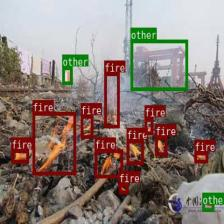fire: (32, 112, 75, 175), (104, 72, 119, 127), (95, 149, 122, 178), (126, 139, 144, 164), (80, 114, 93, 138), (11, 149, 29, 163), (155, 136, 166, 154), (144, 117, 153, 134), (194, 151, 207, 162), (118, 183, 128, 193)
